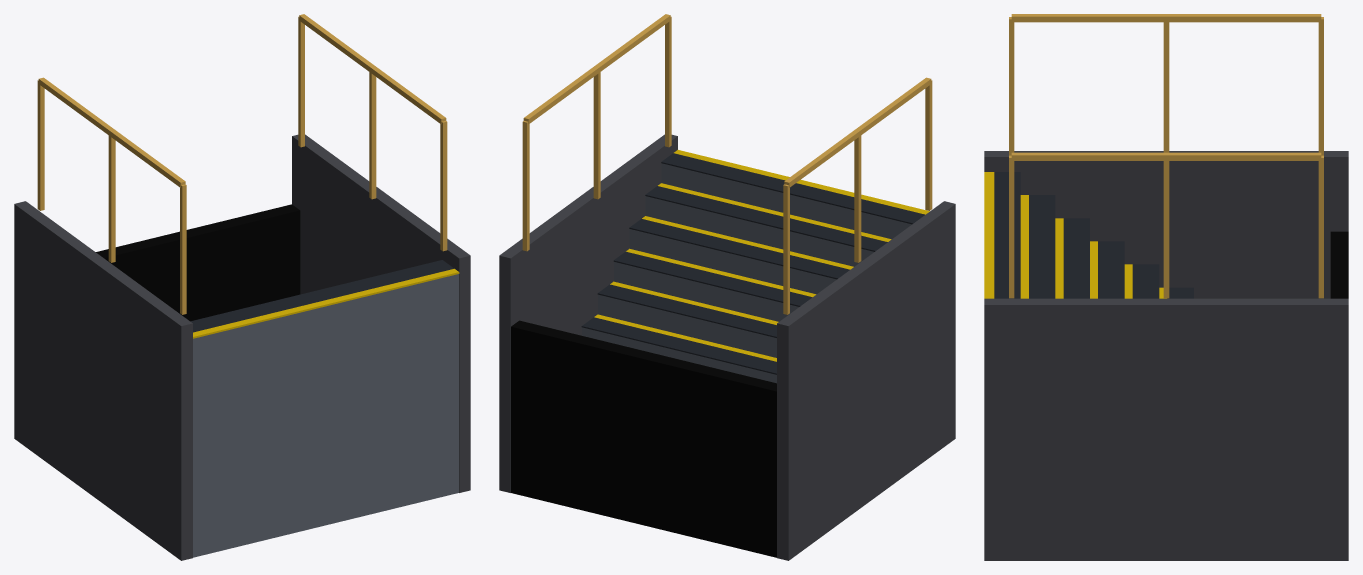
Rendered from stairs_down.glb.
The picture shows the model from 3 angles, left to right: view 1: azimuth 30°, elevation 25°; view 2: azimuth 150°, elevation 25°; view 3: azimuth 270°, elevation 25°; orthographic projection. The views are drawn at different scales.
Parts seen in each view (by area): view 1: stairs_down; view 2: stairs_down; view 3: stairs_down.
Boxes of the visible parts, left/top/right/bottom form: stairs_down: left=14, top=14, right=470, bottom=560; stairs_down: left=499, top=14, right=955, bottom=560; stairs_down: left=984, top=14, right=1348, bottom=560.
Bounding box in the file's own units: 2 × 2.42 × 2.
